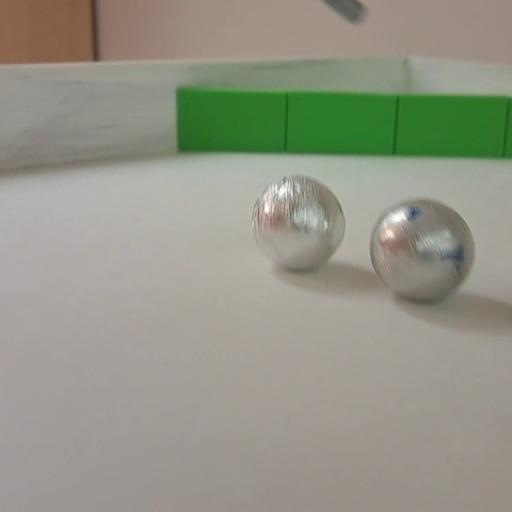alive: (367, 197, 475, 302), (253, 176, 346, 270)
